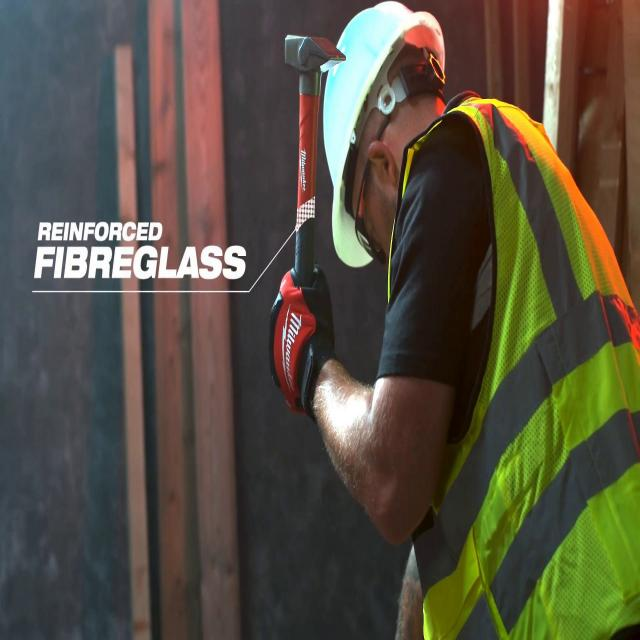hammer: (285, 32, 346, 287)
